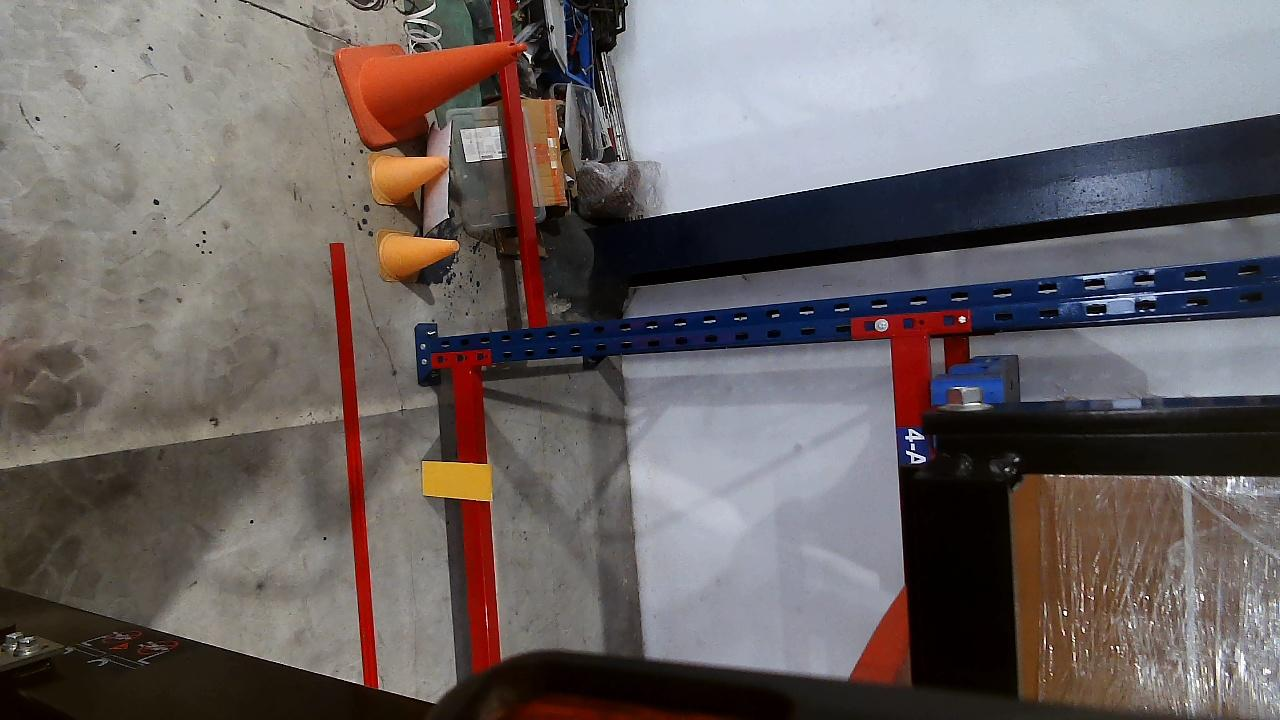h_rack: (450, 366, 498, 675), (890, 334, 931, 466)
orange_strip: (420, 461, 492, 501)
red_line: (329, 241, 378, 685)
